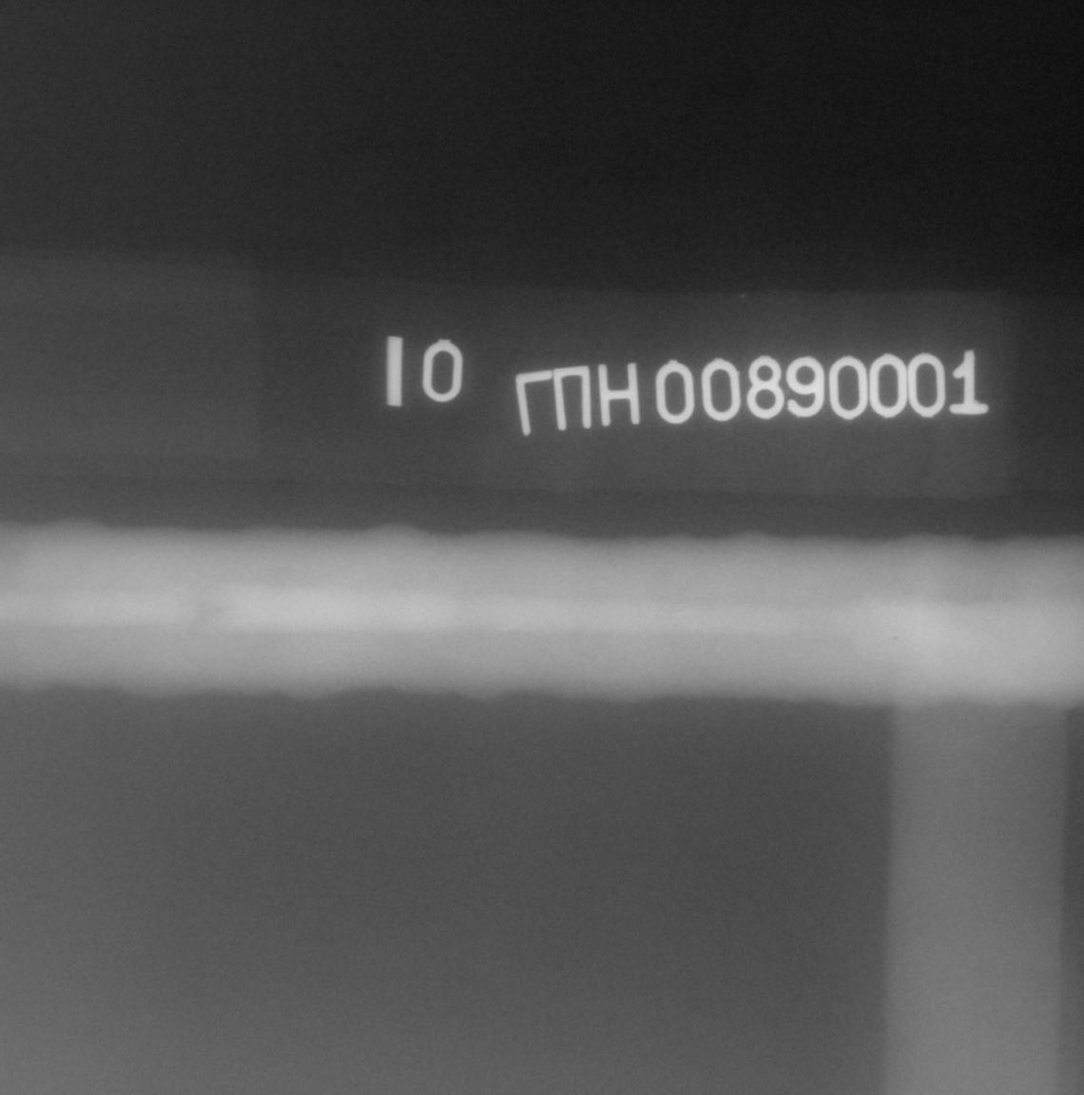Pore/Porosity: (893, 635, 900, 641)
